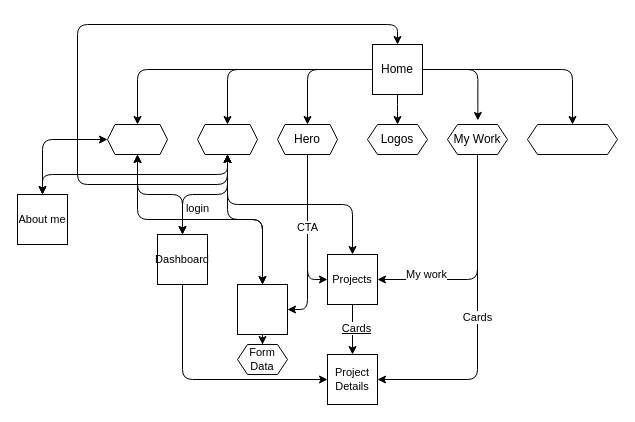
The diagram is 635 pixels wide and 422 high, and some of its shapes have lost their labels. The box of each missing label's shape, as (x1, y1, x2, y2) in pixels:
Contact: (236, 284, 288, 334)
Footer: (106, 124, 168, 154)
Navbar: (196, 124, 258, 154)
Testimonials: (526, 124, 618, 154)
